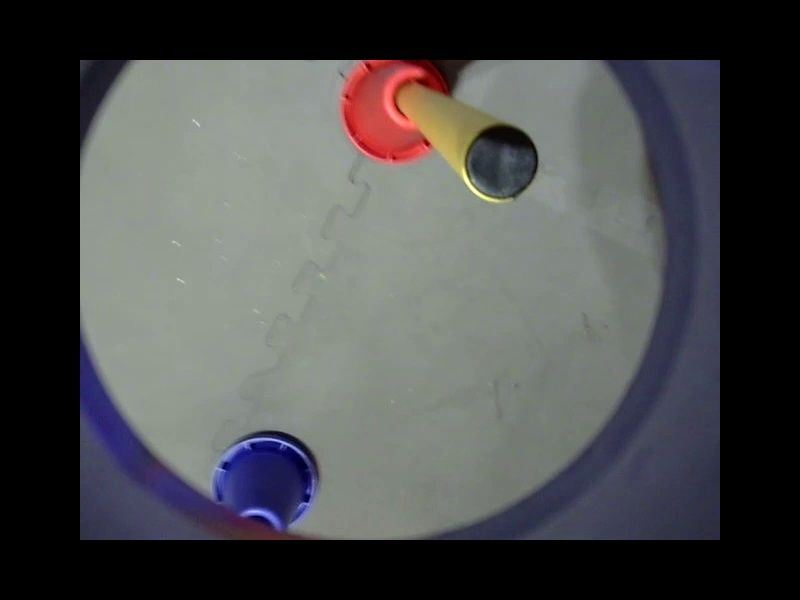tip: (454, 112, 540, 206)
